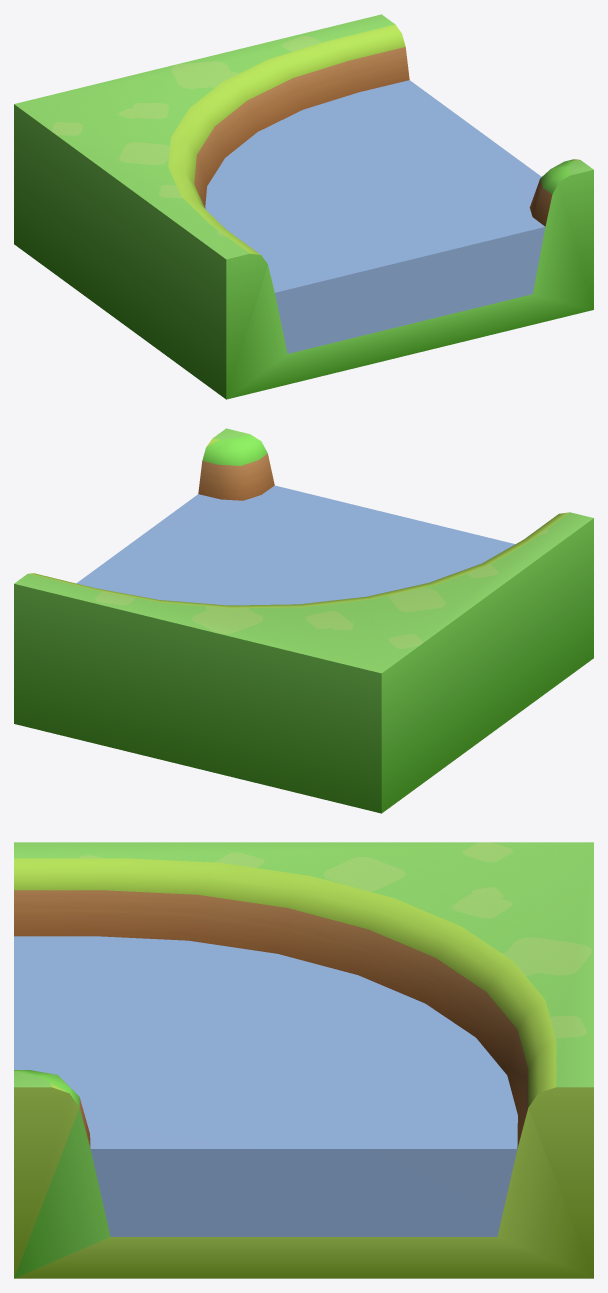
Rendered from RiverTile_3_2.fbx.
3 renders of one model, top to bottom at view 1: azimuth 30°, elevation 25°; view 2: azimuth 150°, elevation 25°; view 3: azimuth 270°, elevation 25°, orthographic. The views are drawn at different scales.
Visible parts, largest first — view 1: RiverTile_3_2; view 2: RiverTile_3_2; view 3: RiverTile_3_2.
Boxes of the visible parts, x1=… form: RiverTile_3_2: x1=14, y1=14, x2=593, y2=399; RiverTile_3_2: x1=14, y1=428, x2=593, y2=813; RiverTile_3_2: x1=14, y1=842, x2=593, y2=1278.
Size of the model in its own units: 400 by 146 by 400.
